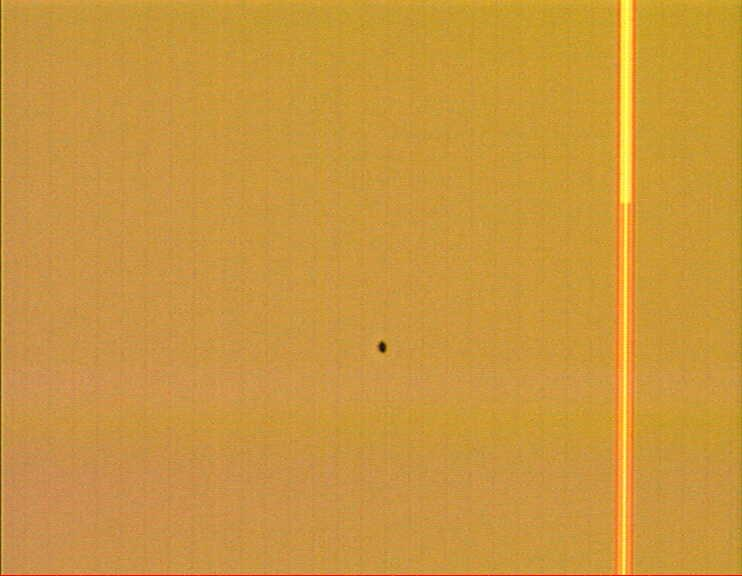PIQ PARTICLE: (373, 338, 393, 358)
